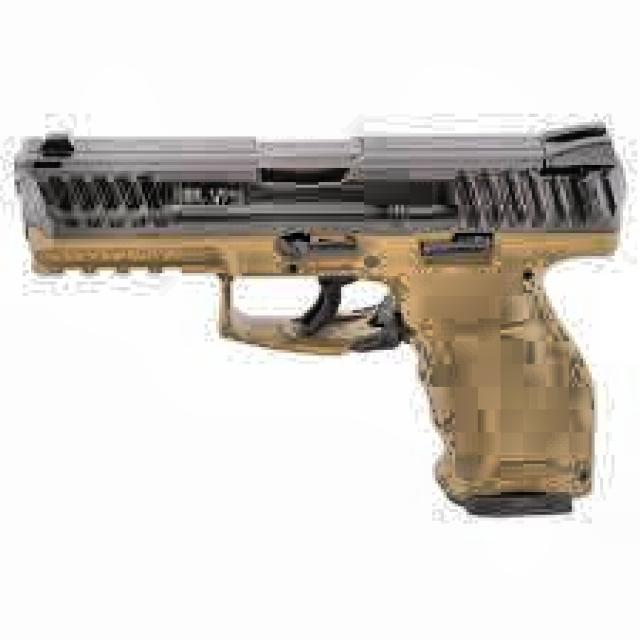HKVP9: (11, 116, 628, 518)
